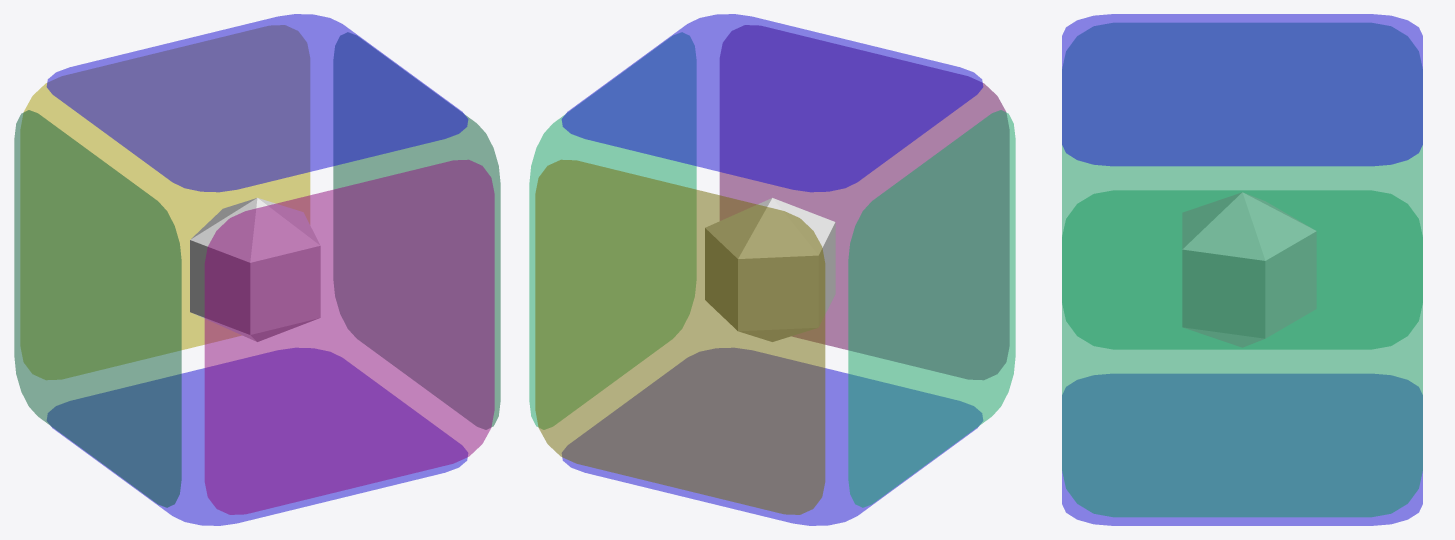
The model's file is CubeBuildMaterial.fbx.
3 renders of one model, left to right at view 1: azimuth 30°, elevation 25°; view 2: azimuth 150°, elevation 25°; view 3: azimuth 270°, elevation 25°, orthographic. The views are drawn at different scales.
Visible parts, largest first — view 1: Cube, Sphere; view 2: Cube, Sphere; view 3: Cube, Sphere.
Boxes of the visible parts, x1,y1,x2,y2 form: Cube: [14, 14, 500, 525]; Sphere: [190, 198, 320, 341]; Cube: [529, 14, 1015, 525]; Sphere: [705, 198, 835, 341]; Cube: [1062, 14, 1422, 525]; Sphere: [1182, 192, 1316, 347].
Bounding box in the file's own units: 220 × 220 × 220.
